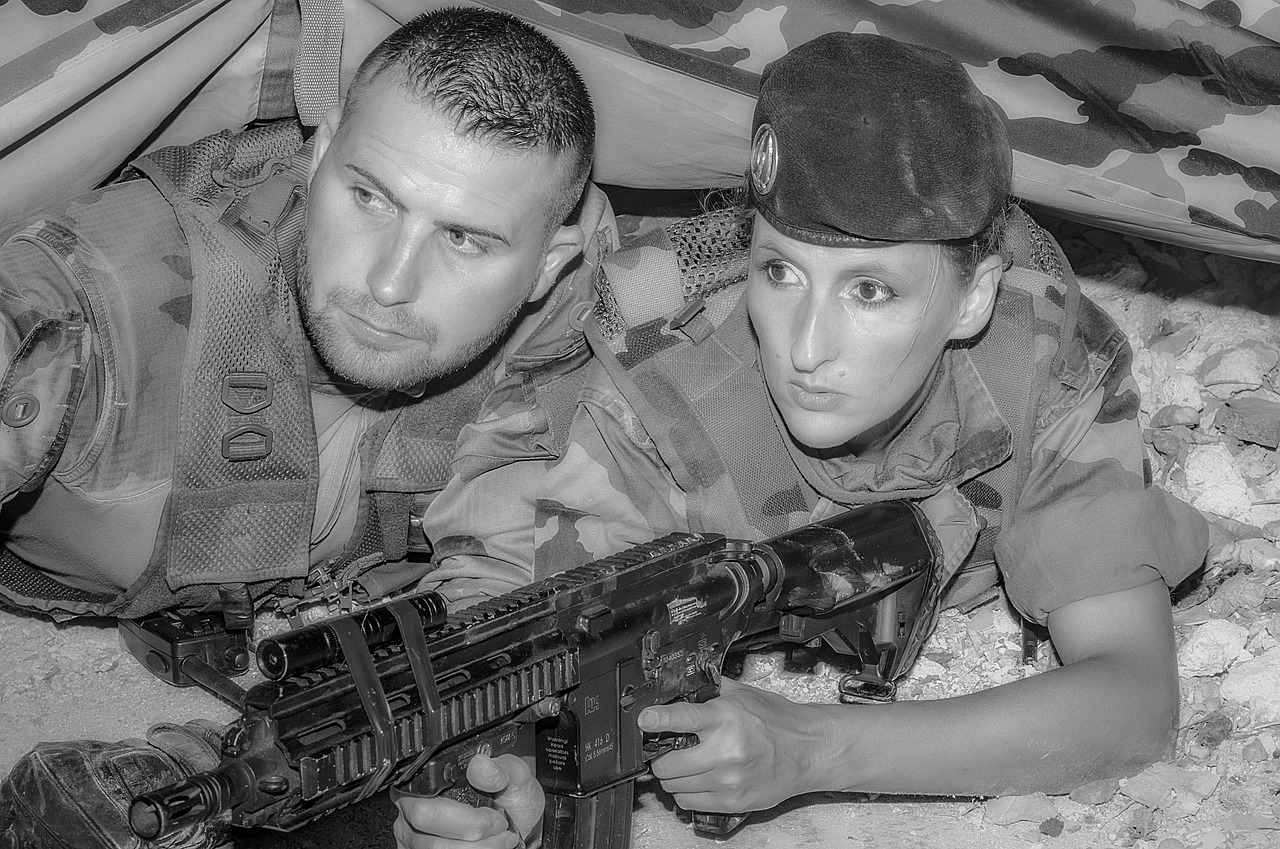gun: (123, 493, 942, 849)
